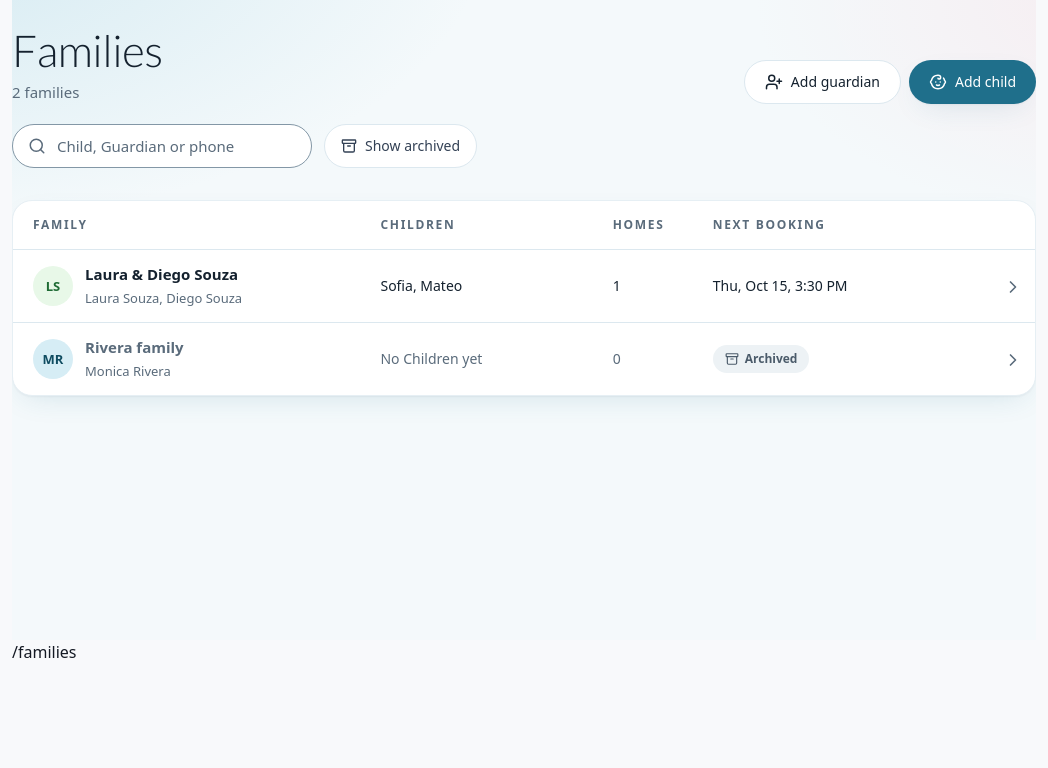
it: families list › says No families match when a search finds nothing
This screenshot has width=1048, height=768.
Expected: the text "Laura & Diego Souza" is shown, [85,262,242,286]
Type "zzz" into the search field named "Search families".
click(162, 146); type("zzz")  # box [12,124,312,168]
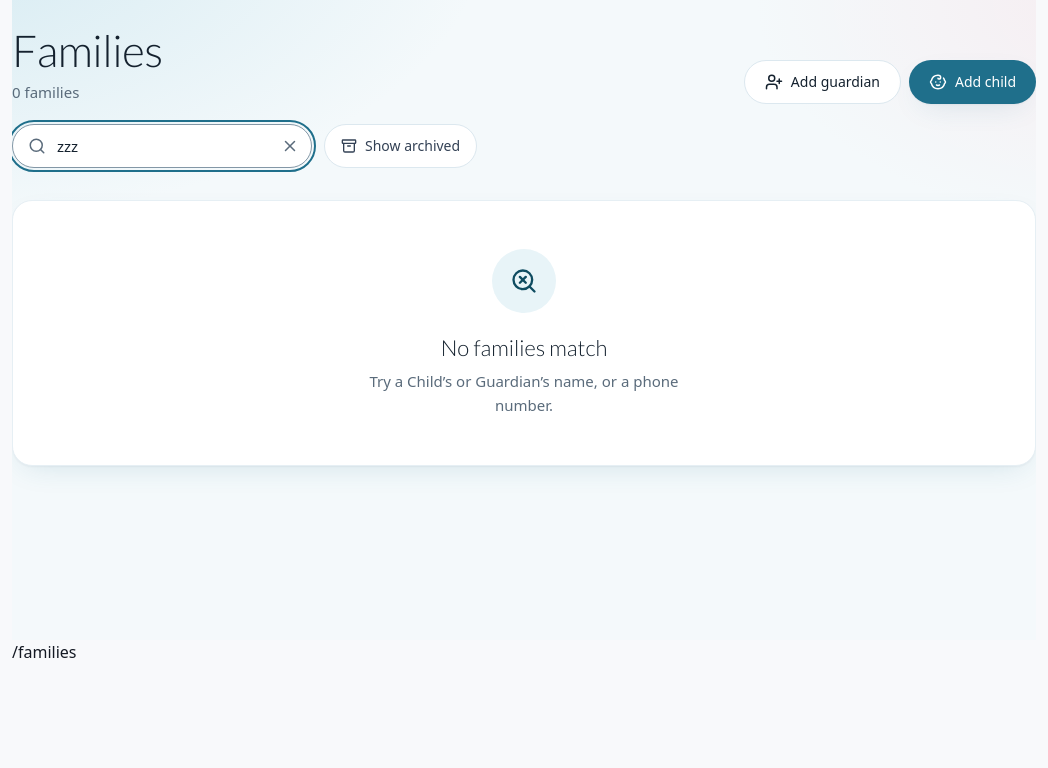
Expected: the heading "No families match" is shown, [441,333,607,363]
